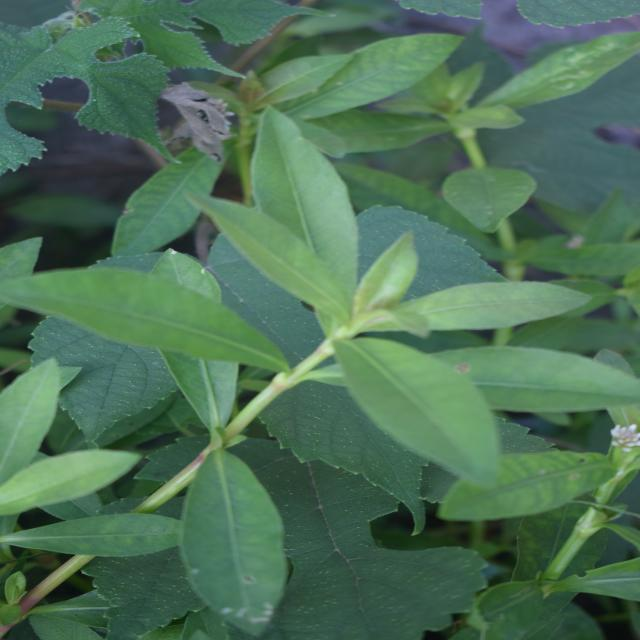Alligatorweed: (134, 64, 468, 543)
